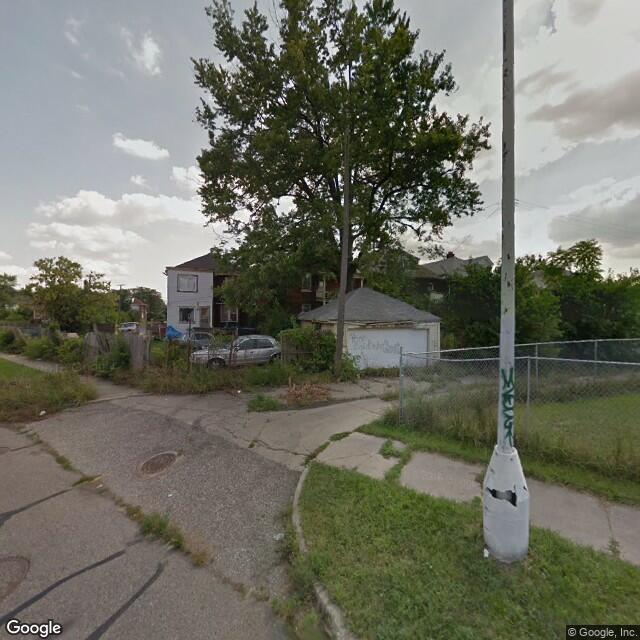litter: (473, 541, 496, 561), (229, 384, 247, 397), (35, 406, 51, 419)
